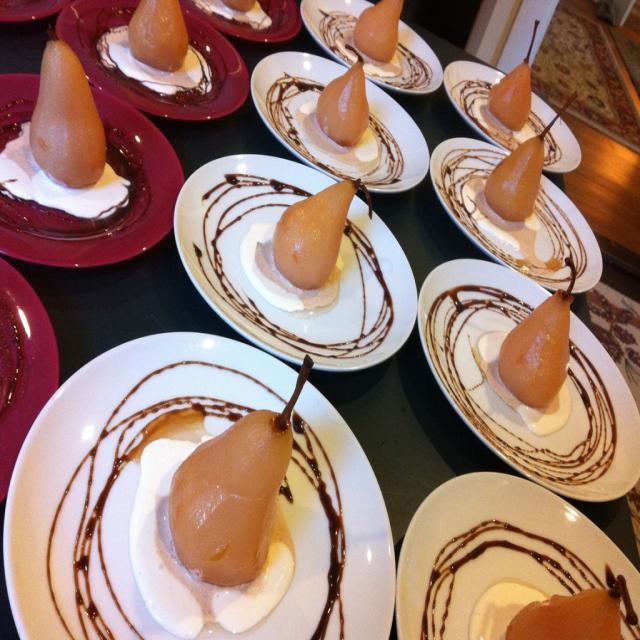Pear: (167, 351, 312, 589), (30, 22, 106, 192), (497, 253, 577, 411), (484, 93, 576, 226), (272, 176, 372, 288), (506, 569, 640, 640), (484, 19, 536, 133), (314, 46, 372, 148), (125, 0, 190, 73), (353, 0, 409, 64), (221, 0, 253, 14)
